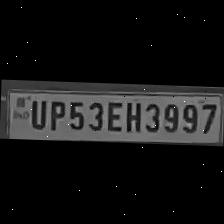3: (84, 96, 104, 130), (142, 98, 160, 132)
5: (64, 96, 86, 130)
7: (198, 98, 218, 132)
9: (160, 99, 180, 133), (178, 98, 198, 132)
E: (104, 96, 124, 132)
H: (122, 96, 142, 132)
P: (46, 94, 64, 130)
U: (26, 94, 46, 128)
